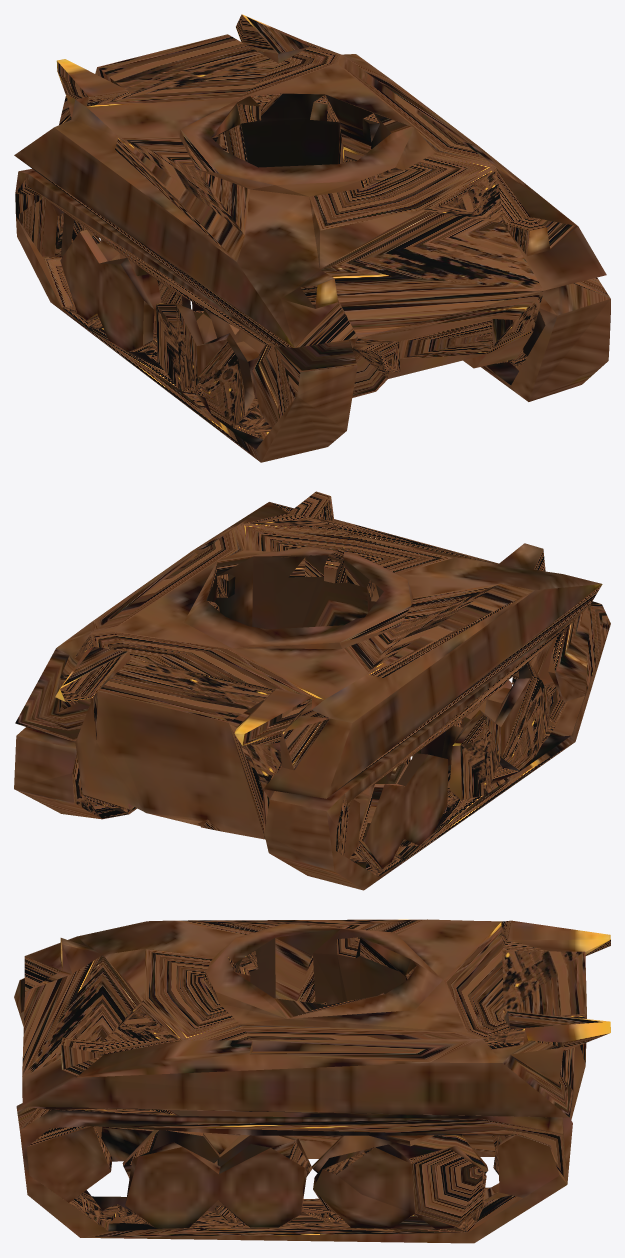
The model's file is hull-s4.glb.
3 views of the same model, one above another, from view 1: azimuth 30°, elevation 25°; view 2: azimuth 150°, elevation 25°; view 3: azimuth 270°, elevation 25° (orthographic). The views are drawn at different scales.
Parts seen in each view (by area): view 1: 9ea61622-a94c-4b6b-8ea4-258bbf757e43_texturing.obj; view 2: 9ea61622-a94c-4b6b-8ea4-258bbf757e43_texturing.obj; view 3: 9ea61622-a94c-4b6b-8ea4-258bbf757e43_texturing.obj.
Part boxes in pixels (<box>): 9ea61622-a94c-4b6b-8ea4-258bbf757e43_texturing.obj: <box>14,14,610,462</box>; 9ea61622-a94c-4b6b-8ea4-258bbf757e43_texturing.obj: <box>14,491,610,890</box>; 9ea61622-a94c-4b6b-8ea4-258bbf757e43_texturing.obj: <box>14,919,610,1243</box>.
Size of the model in its own units: 1.2 by 0.7665 by 1.97.
Materials: 1 (1 with a texture image).
